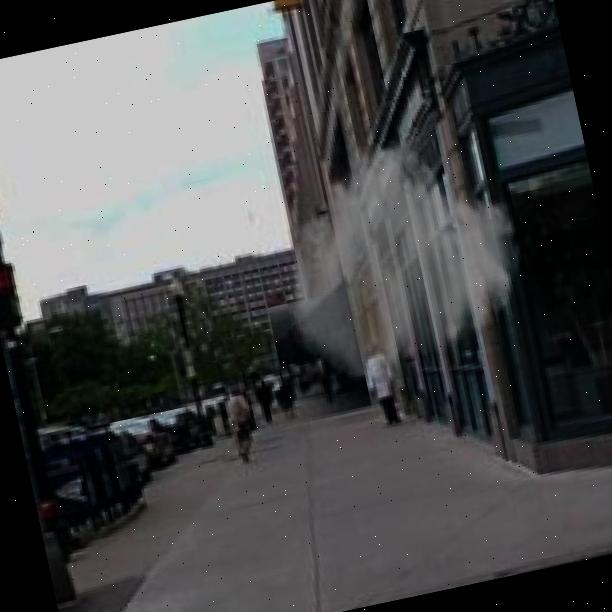smoke: (254, 104, 546, 398)
